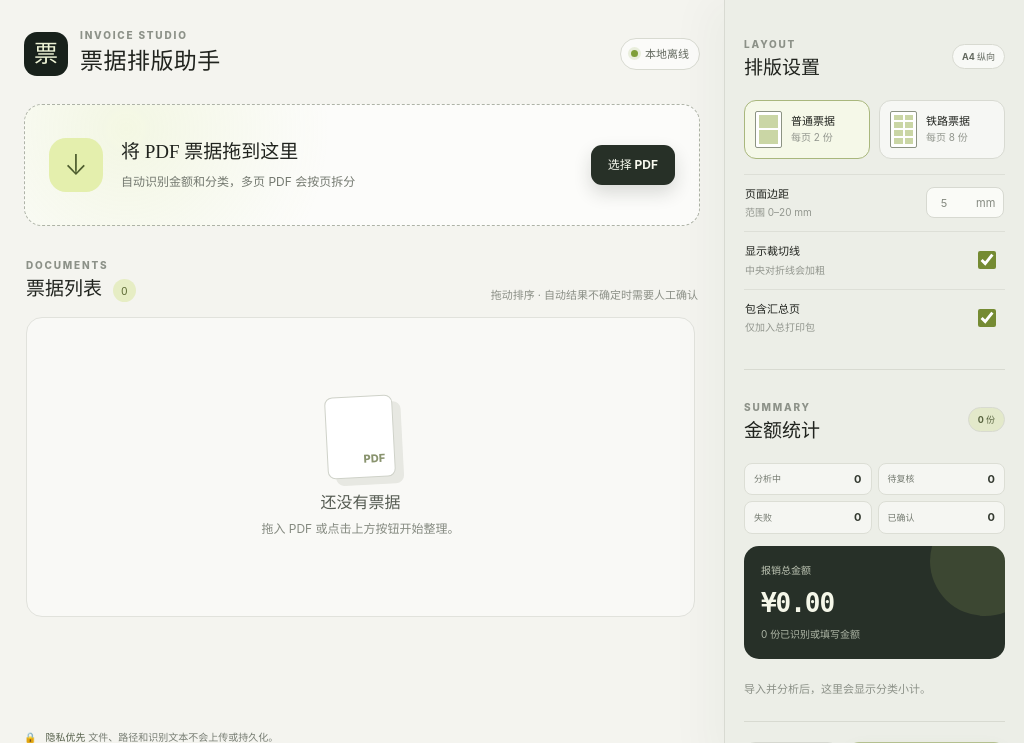
Test: App › shows automatically recognized category statistics
This screenshot has width=1024, height=743.
Click the button "选择 PDF". click: click(633, 164)
box: [591,144,675,184]
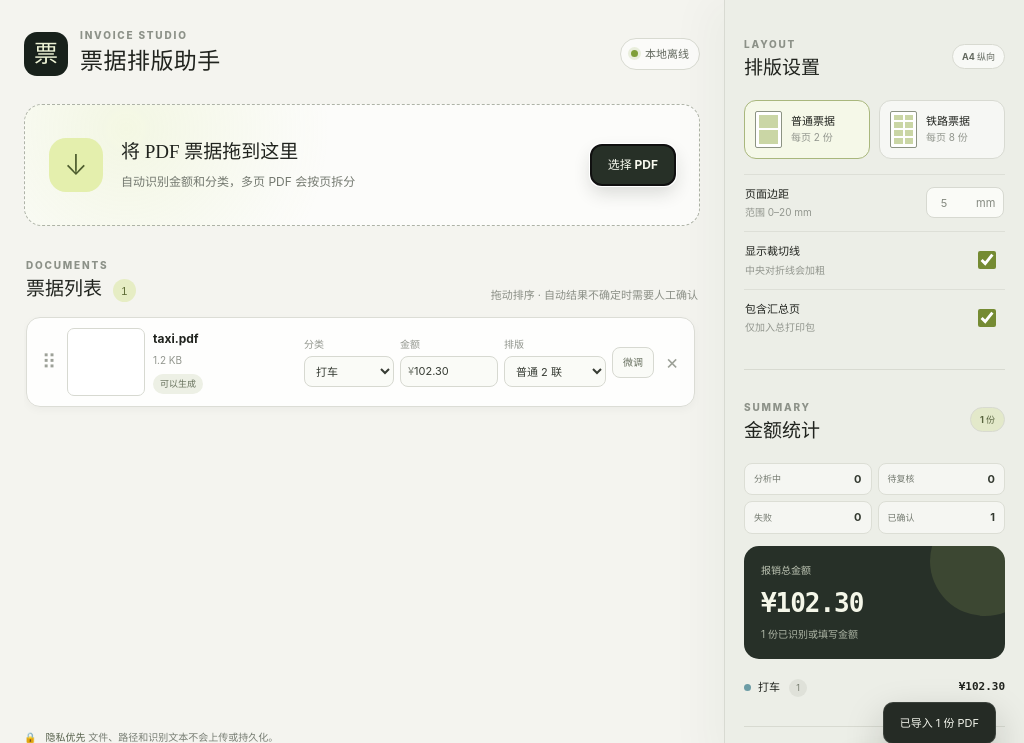
expect the text "已确认" is shown: met, box [888,512,914,522]
expect the text "可以生成" is shown: met, box [153,374,203,394]
expect the text "¥102.30" is shown 2 times: met, box [761,588,863,618]; [959,679,1005,696]
